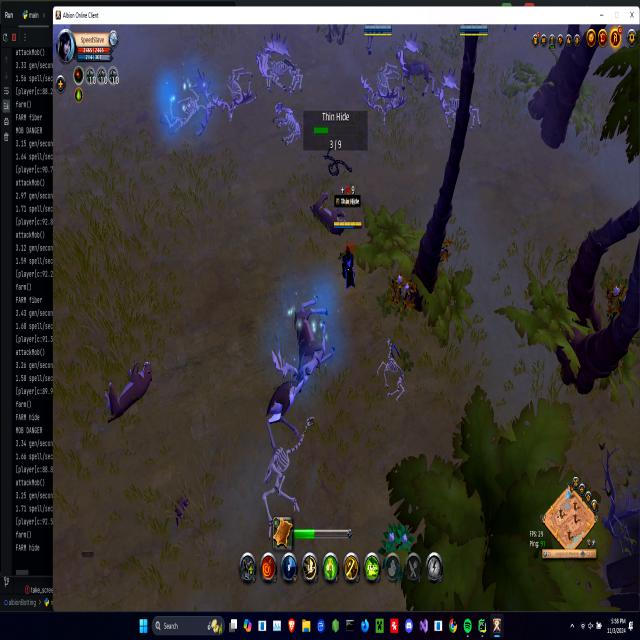hide: (602, 275, 627, 328), (383, 516, 413, 558), (387, 267, 414, 311)
mob: (261, 366, 314, 454), (286, 295, 335, 379), (101, 352, 154, 427), (394, 46, 438, 98), (307, 184, 340, 238)
red: (334, 216, 364, 291), (458, 23, 490, 41), (363, 23, 394, 38)
